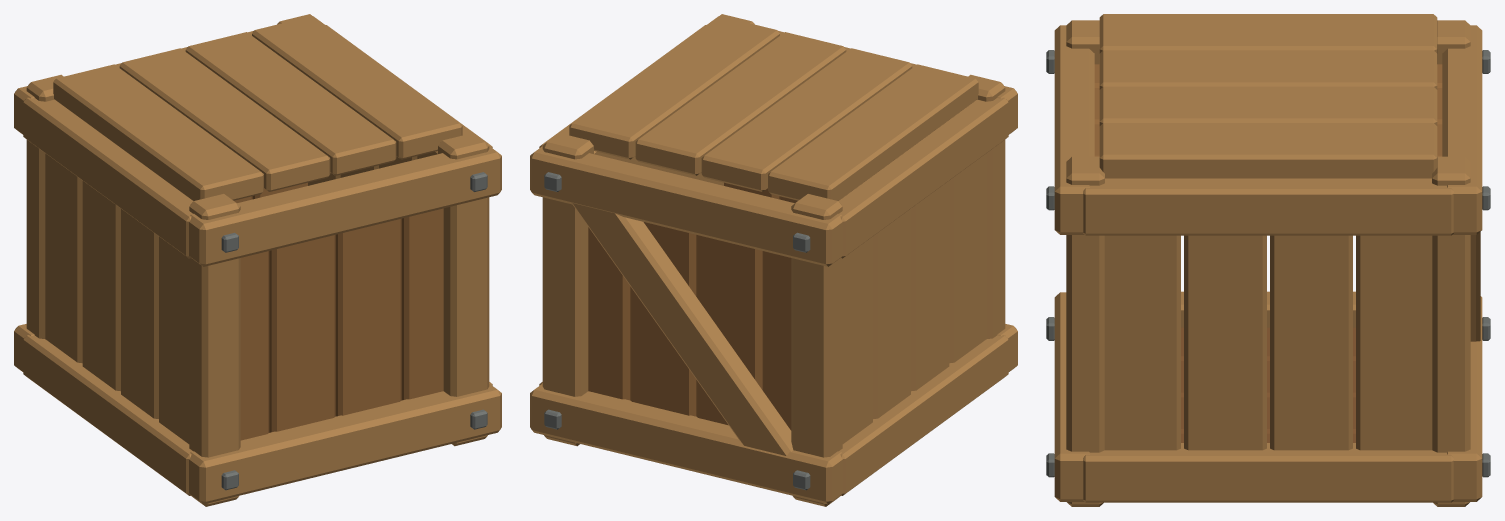
The model's file is ship_crate_wood_01.glb.
3 renders of one model, left to right at view 1: azimuth 30°, elevation 25°; view 2: azimuth 150°, elevation 25°; view 3: azimuth 270°, elevation 25°, orthographic. The views are drawn at different scales.
Parts seen in each view (by area): view 1: ship_crate_wood_01__rail.002, ship_crate_wood_01__rail, ship_crate_wood_01__lid_plank, ship_crate_wood_01__wall.002, ship_crate_wood_01__wall.004, ship_crate_wood_01__lid_plank.002, ship_crate_wood_01__lid_plank.001, ship_crate_wood_01__corner, ship_crate_wood_01__lid_plank.003, ship_crate_wood_01__corner.002, ship_crate_wood_01__side_rail.002, ship_crate_wood_01__side_rail (+8 smaller); view 2: ship_crate_wood_01__rail.003, ship_crate_wood_01__rail.001, ship_crate_wood_01__front_diagonal, ship_crate_wood_01__lid_plank, ship_crate_wood_01__lid_plank.002, ship_crate_wood_01__lid_plank.001, ship_crate_wood_01__corner.001, ship_crate_wood_01__lid_plank.003, ship_crate_wood_01__corner.003, ship_crate_wood_01__side_rail.002, ship_crate_wood_01__side_rail, ship_crate_wood_01__wall.003 (+9 smaller); view 3: ship_crate_wood_01__side_rail.003, ship_crate_wood_01__side_rail.001, ship_crate_wood_01__lid_plank.003, ship_crate_wood_01__side.003, ship_crate_wood_01__side.005, ship_crate_wood_01__side.001, ship_crate_wood_01__side.007, ship_crate_wood_01__lid_plank, ship_crate_wood_01__lid_plank.001, ship_crate_wood_01__lid_plank.002, ship_crate_wood_01__corner.002, ship_crate_wood_01__corner.003 (+7 smaller).
Boxes of the visible parts, x1,y1,x2,y2 form: ship_crate_wood_01__rail.002: (189, 146, 501, 266); ship_crate_wood_01__rail: (189, 384, 501, 504); ship_crate_wood_01__lid_plank: (53, 64, 263, 200); ship_crate_wood_01__wall.002: (269, 235, 335, 432); ship_crate_wood_01__wall.004: (335, 218, 401, 416); ship_crate_wood_01__lid_plank.002: (185, 32, 396, 175); ship_crate_wood_01__lid_plank.001: (119, 48, 330, 191); ship_crate_wood_01__corner: (189, 194, 240, 506); ship_crate_wood_01__lid_plank.003: (252, 16, 462, 159); ship_crate_wood_01__corner.002: (438, 133, 489, 446); ship_crate_wood_01__side_rail.002: (23, 97, 193, 258); ship_crate_wood_01__side_rail: (23, 335, 192, 495); ship_crate_wood_01__rail.003: (530, 146, 842, 266); ship_crate_wood_01__rail.001: (530, 384, 842, 504); ship_crate_wood_01__front_diagonal: (572, 203, 793, 455); ship_crate_wood_01__lid_plank: (768, 64, 978, 200); ship_crate_wood_01__lid_plank.002: (635, 32, 846, 175); ship_crate_wood_01__lid_plank.001: (701, 48, 912, 191); ship_crate_wood_01__corner.001: (791, 194, 842, 506); ship_crate_wood_01__lid_plank.003: (569, 16, 779, 159); ship_crate_wood_01__corner.003: (542, 133, 593, 446); ship_crate_wood_01__side_rail.002: (838, 97, 1008, 258); ship_crate_wood_01__side_rail: (839, 335, 1008, 495); ship_crate_wood_01__wall.003: (696, 235, 762, 425); ship_crate_wood_01__side_rail.003: (1083, 178, 1453, 235); ship_crate_wood_01__side_rail.001: (1083, 443, 1453, 502); ship_crate_wood_01__lid_plank.003: (1099, 123, 1437, 178); ship_crate_wood_01__side.003: (1184, 235, 1266, 450); ship_crate_wood_01__side.005: (1270, 235, 1352, 450); ship_crate_wood_01__side.001: (1104, 235, 1180, 450); ship_crate_wood_01__side.007: (1356, 235, 1432, 450); ship_crate_wood_01__lid_plank: (1099, 14, 1437, 53); ship_crate_wood_01__lid_plank.001: (1099, 50, 1437, 89); ship_crate_wood_01__lid_plank.002: (1099, 86, 1437, 125); ship_crate_wood_01__corner.002: (1066, 156, 1104, 506); ship_crate_wood_01__corner.003: (1432, 156, 1470, 506).
Bounding box in the file's own units: 0.648 × 0.6225 × 0.724.
